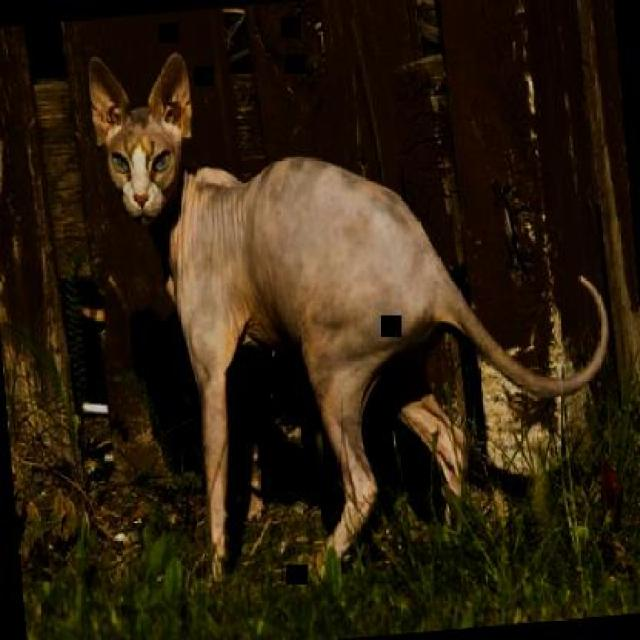cat: (86, 12, 628, 593)
